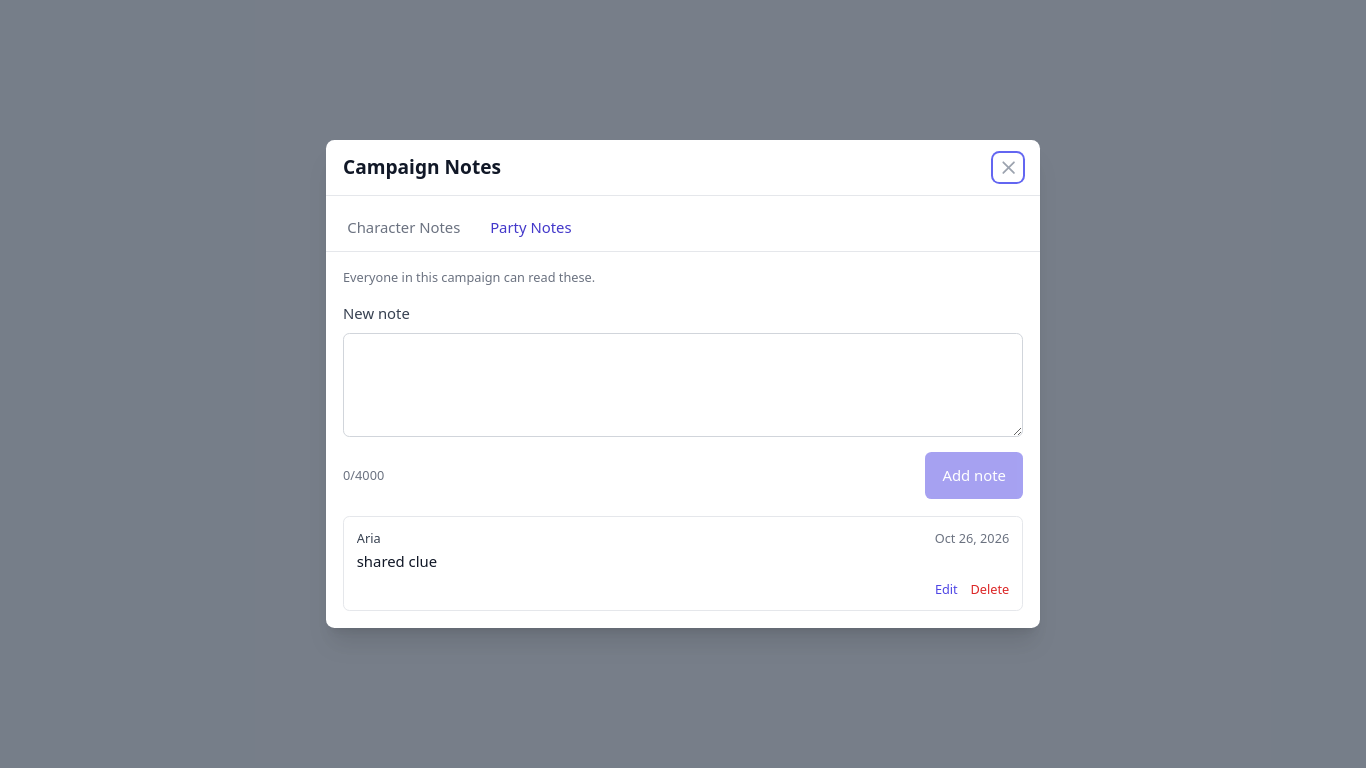
Test: CampaignNotesModal › blocks repeated submits while a save is in flight
Type "only once" into the text box labelled "New note" at (683, 385), box [343,333,1023,437]
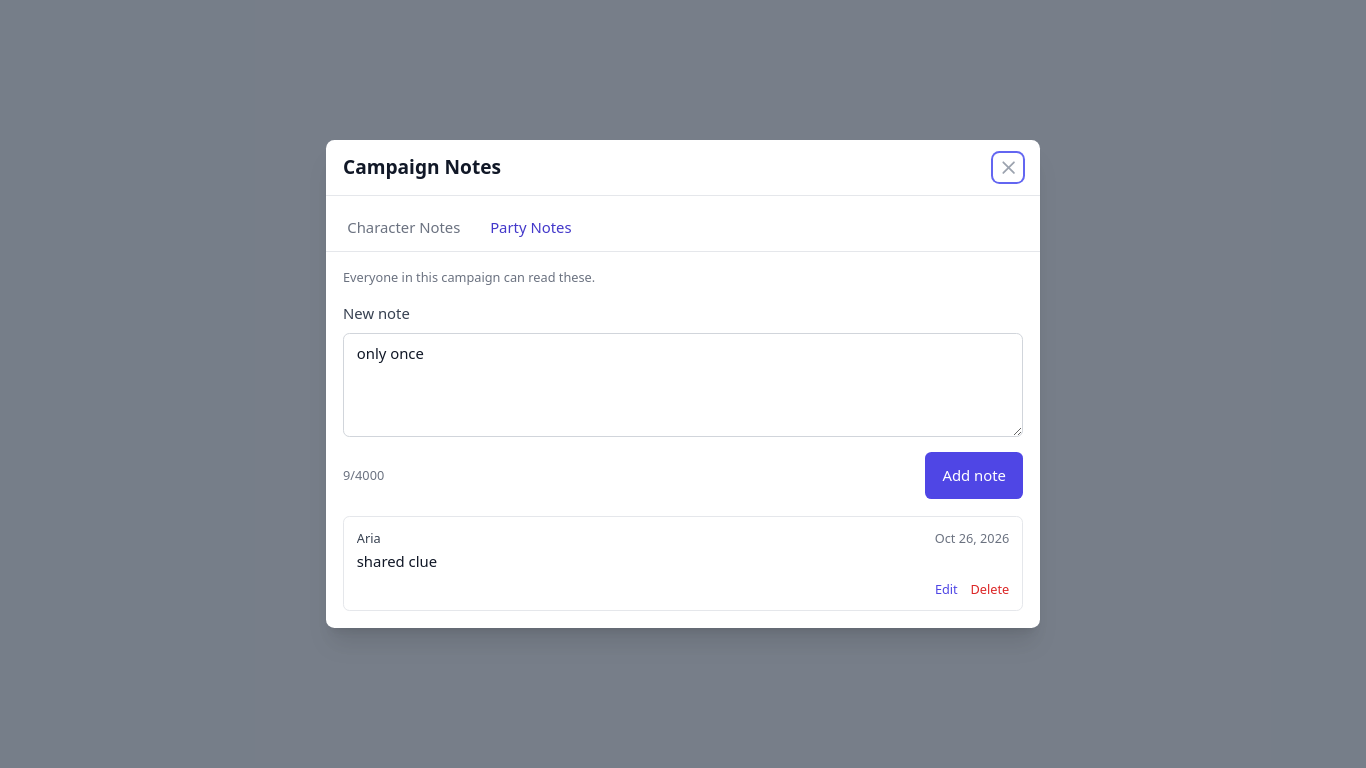
Click the button "Add note" at (974, 475), box [925,452,1023,499]
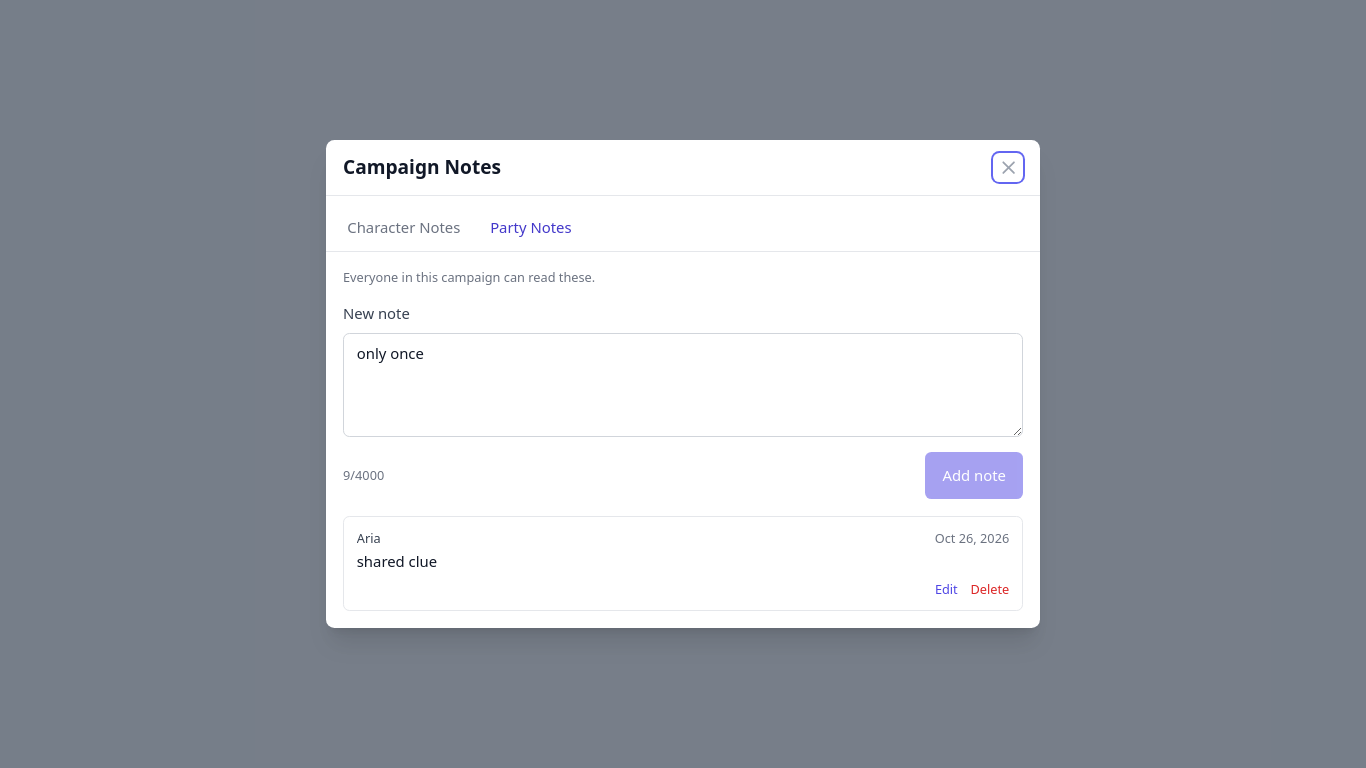
Check: the button "Add note" is disabled
Click the button "Add note" at (974, 475), box [925,452,1023,499]
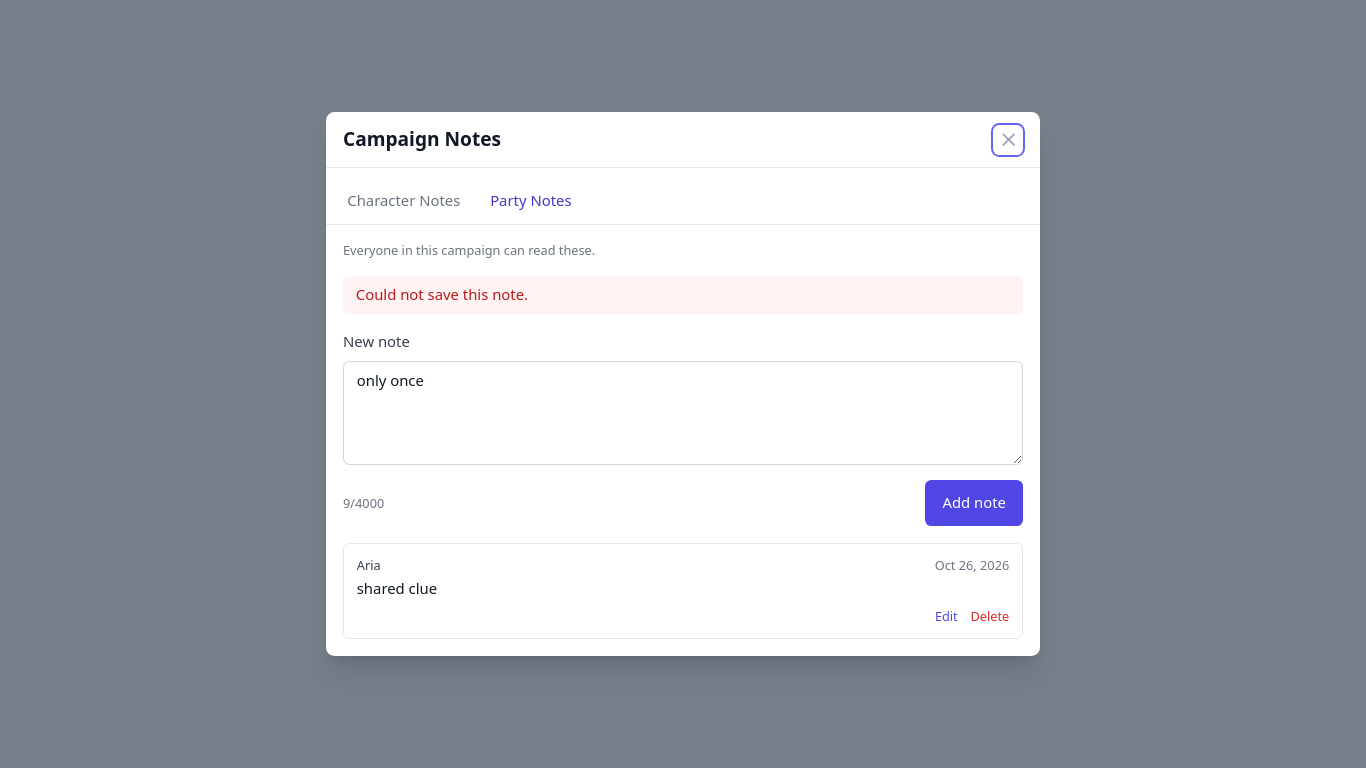
Check: the button "Add note" is enabled, box [925,480,1023,526]
